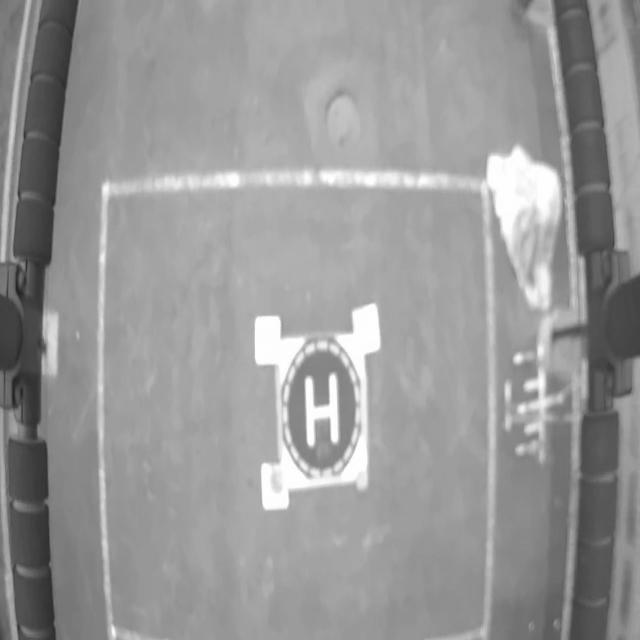Helipad: (304, 374, 341, 449)
